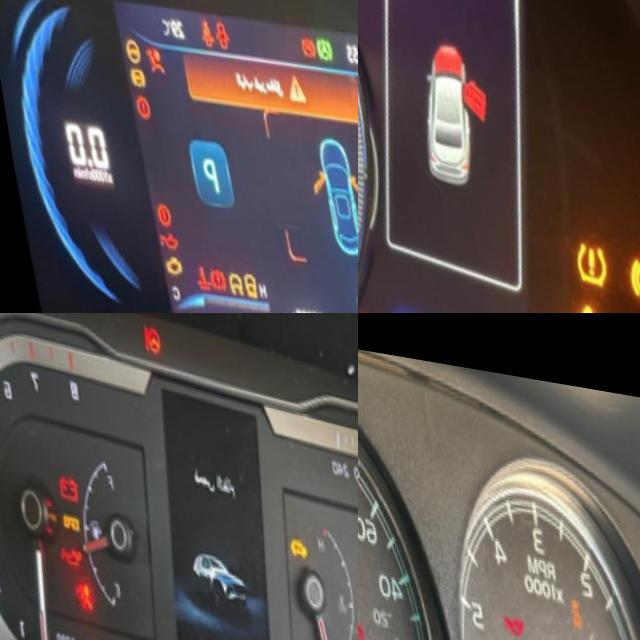Central Warning lamp: (545, 273, 604, 313), (277, 59, 304, 98)
Doors: (207, 9, 227, 44)
Engine cooling system: (181, 253, 199, 288)
security: (275, 518, 301, 551)
